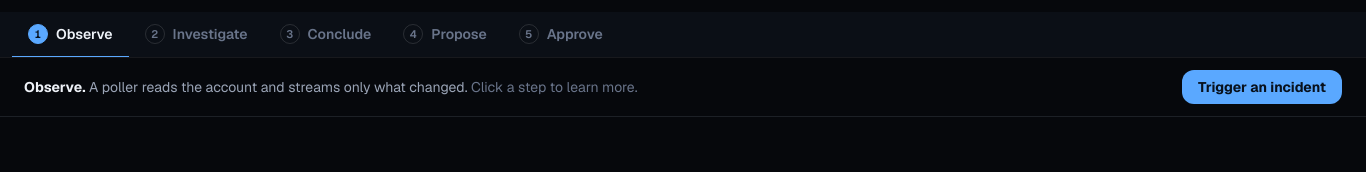
Scenario: FlowStepper › pins a clicked step, shows its full explanation, and can return to live
Click the button "4 Propose". click: (445,35)
box: [387,12,503,58]
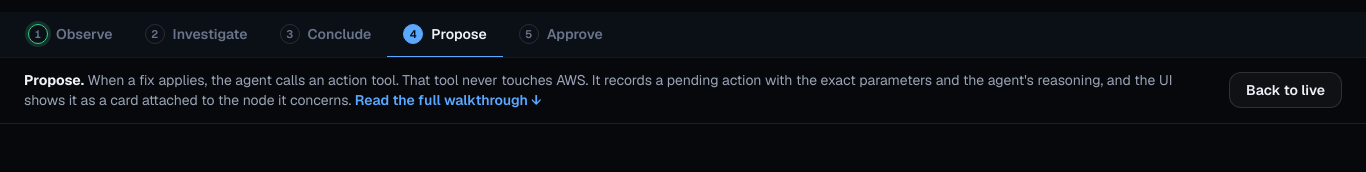
Click the button "Back to live". click: (1286,90)
box: [1229,72,1342,108]
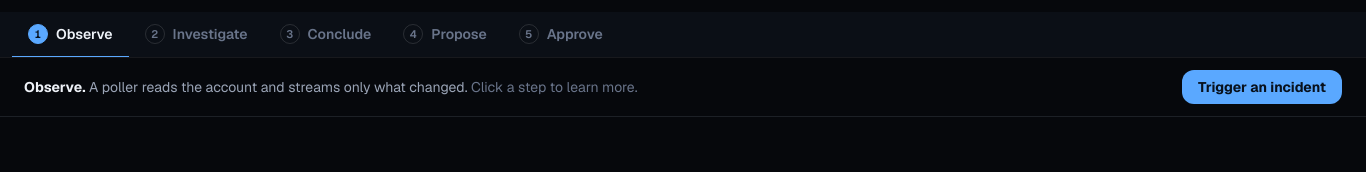
Check: the text "A poller reads the account" is shown, box [89,78,467,96]
